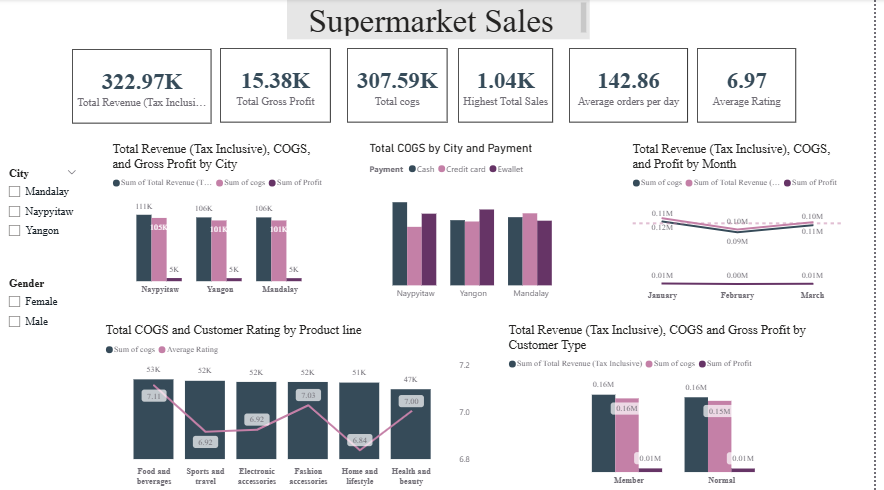

The page's visual inventory and layout, read from the dashboard file:
{"tool":"powerbi","page":{"name":"Dashboard","canvas":[1280,720],"ordinal":0},"visuals":[{"type":"card","fields":{"Values":["Measure Table.Total Revenue"]},"box":[106,72.7,204.4,109],"z":0},{"type":"card","fields":{"Values":["Measure Table.Total Gross Income"]},"box":[322.5,72.1,162,109],"z":1000},{"type":"card","fields":{"Values":["Measure Table.Average Rating"]},"box":[1020.6,72.1,145.4,109],"z":2000},{"type":"card","fields":{"Values":["Measure Table.Total Orders (cogs)"]},"box":[507.3,72.1,146.9,109],"z":3000},{"type":"card","fields":{"Values":["Measure Table.Highest Total Sales"]},"box":[670.8,72.1,139.3,109],"z":4000},{"type":"card","fields":{"Values":["Measure Table.Average orders per day"]},"box":[832.8,72.1,174.1,109],"z":5000},{"type":"textbox","box":[420.6,0,442.9,58.7],"z":6000},{"type":"clusteredColumnChart","title":"Total Revenue (Tax Inclusive), COGS, and Gross Profit by City","fields":{"Category":["Dim_Location.City"],"Y":["Sum(Fact_Table.Total Revenue)","Sum(Fact_Table.cogs)","Sum(Fact_Table.gross income)"]},"box":[159,208.4,325.6,233.2],"z":7000},{"type":"lineChart","title":"Total Revenue (Tax Inclusive), COGS, and Profit by Month","fields":{"Category":["Dim_Calendar.Month"],"Y":["Sum(Fact_Table.cogs)","Sum(Fact_Table.Total Revenue)","Sum(Fact_Table.Profit)"]},"box":[920.6,207.9,317.5,241.3],"z":8000},{"type":"lineClusteredColumnComboChart","title":"Total Revenue (Tax Inclusive), COGS and Gross Profit by Customer Type","fields":{"Category":["Dim_Customer.Customer type"],"Y":["Sum(Fact_Table.Total Revenue)","Sum(Fact_Table.cogs)","Sum(Fact_Table.gross income)"]},"box":[739.7,473,498.4,247.6],"z":9000},{"type":"slicer","fields":{"Values":["Dim_Customer.Gender"]},"box":[0,402.8,149.9,89.3],"z":10000},{"type":"lineClusteredColumnComboChart","title":"Total COGS and Customer Rating by Product line","fields":{"Category":["Dim_Products.Product line"],"Y":["Sum(Fact_Table.cogs)"],"Y2":["Measure Table.Average Rating"]},"box":[149.2,473,542.9,247.6],"z":11000},{"type":"clusteredColumnChart","title":"Total COGS by City and Payment","fields":{"Category":["Dim_Location.City"],"Series":["Fact_Table.Payment"],"Y":["Sum(Fact_Table.cogs)"]},"box":[534.9,207.9,314.3,241.3],"z":12000},{"type":"slicer","fields":{"Values":["Dim_Location.City"]},"box":[0,240.8,124.2,119.6],"z":13000}]}

Visuals, with their boxes in screenshot pixels (x1, y1, x2, y2), scaled from the page's 1280x720 canvas onto the 884x490 screenshot:
card - Measure Table.Total Revenue: <region>73, 49, 214, 124</region>
card - Measure Table.Total Gross Income: <region>223, 49, 335, 123</region>
card - Measure Table.Average Rating: <region>705, 49, 805, 123</region>
card - Measure Table.Total Orders (cogs): <region>350, 49, 452, 123</region>
card - Measure Table.Highest Total Sales: <region>463, 49, 559, 123</region>
card - Measure Table.Average orders per day: <region>575, 49, 695, 123</region>
textbox: <region>290, 0, 596, 40</region>
"Total Revenue (Tax Inclusive), COGS, and Gross Profit by City" clusteredColumnChart: <region>110, 142, 335, 301</region>
"Total Revenue (Tax Inclusive), COGS, and Profit by Month" lineChart: <region>636, 141, 855, 306</region>
"Total Revenue (Tax Inclusive), COGS and Gross Profit by Customer Type" lineClusteredColumnComboChart: <region>511, 322, 855, 489</region>
slicer - Dim_Customer.Gender: <region>0, 274, 104, 335</region>
"Total COGS and Customer Rating by Product line" lineClusteredColumnComboChart: <region>103, 322, 478, 489</region>
"Total COGS by City and Payment" clusteredColumnChart: <region>369, 141, 586, 306</region>
slicer - Dim_Location.City: <region>0, 164, 86, 245</region>
